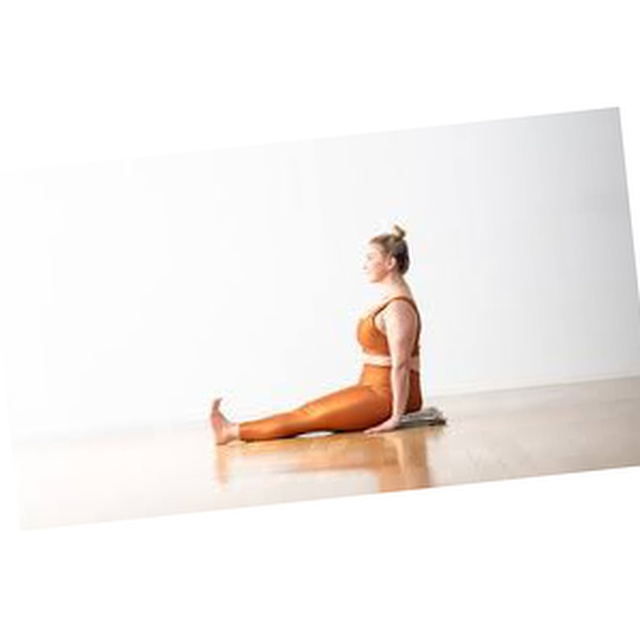Staff_Pose: (209, 223, 422, 448)
